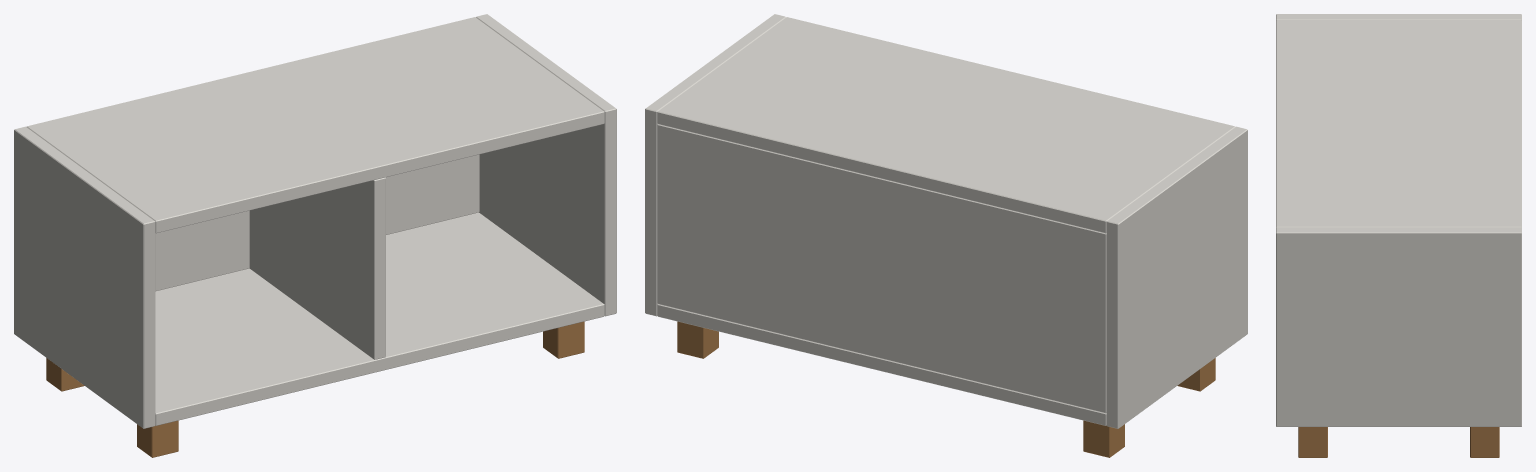
Rendered from low_cabinet_two_drawers_body.glb.
3 views of the same model, side by side, from view 1: azimuth 30°, elevation 25°; view 2: azimuth 150°, elevation 25°; view 3: azimuth 270°, elevation 25° (orthographic). The views are drawn at different scales.
Parts seen in each view (by area): view 1: low_cabinet_two_drawers_body.001; view 2: low_cabinet_two_drawers_body.001; view 3: low_cabinet_two_drawers_body.001.
Boxes of the visible parts, x1,y1,x2,y2 form: low_cabinet_two_drawers_body.001: (14,14,616,457); low_cabinet_two_drawers_body.001: (645,14,1247,457); low_cabinet_two_drawers_body.001: (1276,14,1521,457).
Size of the model in its own units: 0.7 by 0.35 by 0.332.
